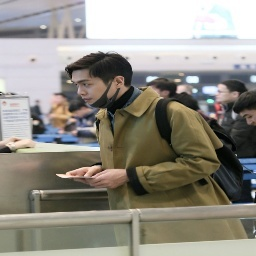noWear: (70, 68, 125, 108), (235, 105, 256, 128), (213, 86, 238, 102)
